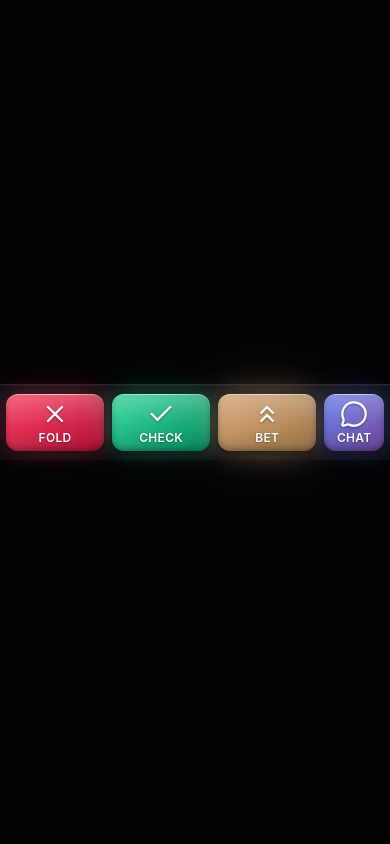
it: VT-02: MobileActionButtons raise sheet — calculations and interactions › shows "Bet" label when bet option is used instead of raise
# The button shows "Bet" instead of "Raise"
Click the button "Bet": (267, 422) [218,394,316,451]
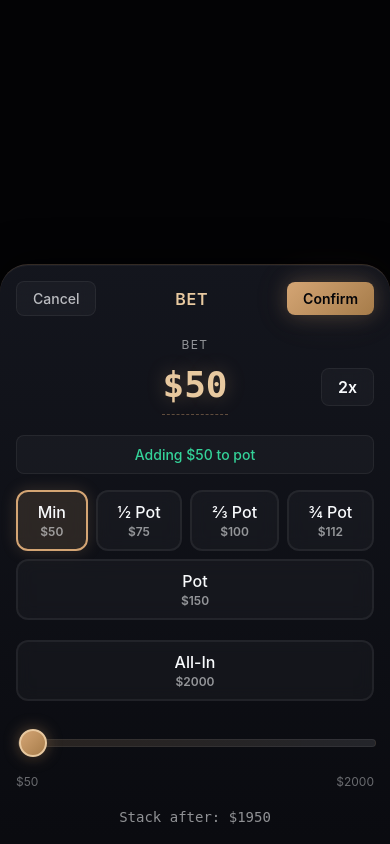
Check: the 2nd text "Bet" is shown, box [181,337,208,352]
